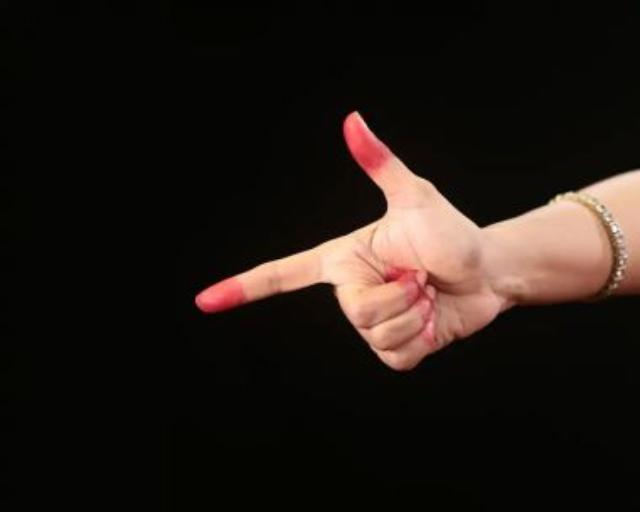chandrakala: (194, 115, 640, 372)
